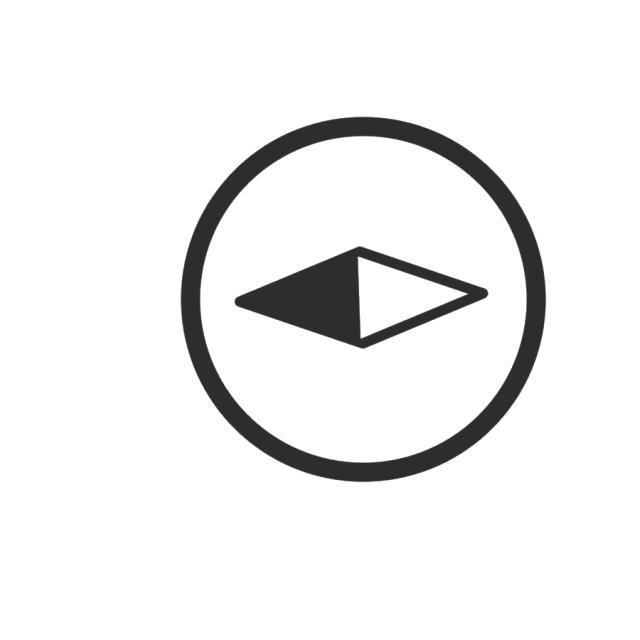compass: (174, 115, 550, 491)
